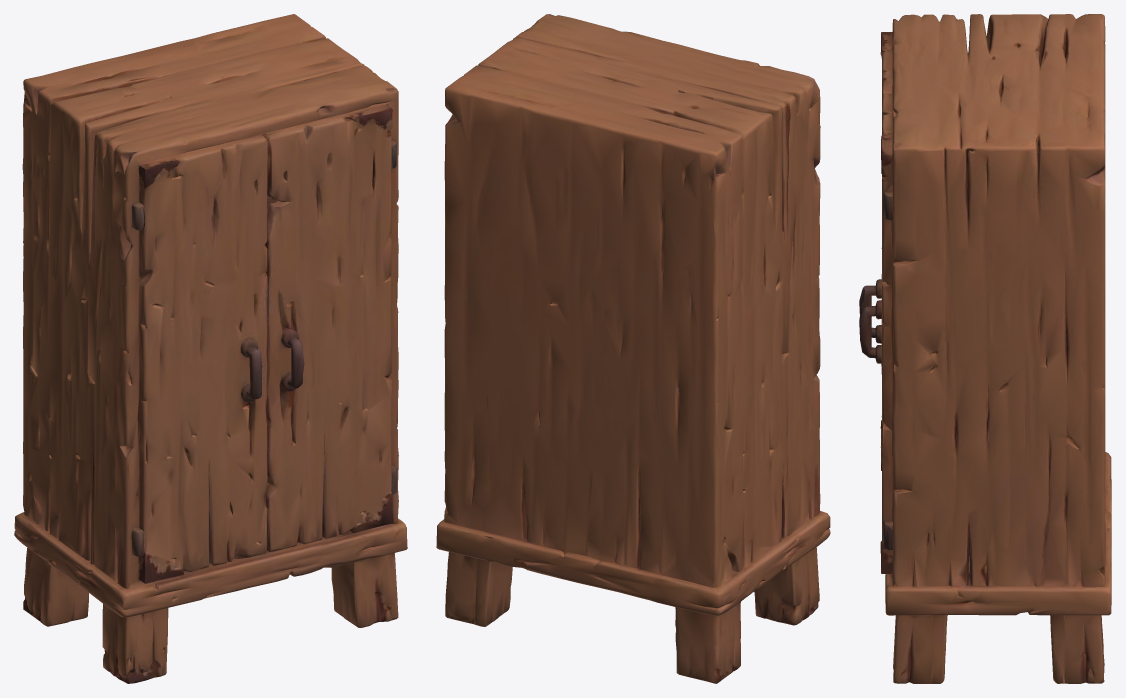
The model's file is wardrobe_derevyannyy_dvustvorchatyy.glb.
The picture shows the model from 3 angles, left to right: view 1: azimuth 30°, elevation 25°; view 2: azimuth 150°, elevation 25°; view 3: azimuth 270°, elevation 25°; orthographic projection.
Visible parts, largest first — view 1: body, door_l, door_r; view 2: body; view 3: body, door_r, door_l.
Boxes of the visible parts, bbox=[...] form: body: bbox=[14, 14, 407, 683]; door_l: bbox=[139, 135, 267, 583]; door_r: bbox=[263, 105, 392, 552]; body: bbox=[436, 14, 830, 683]; body: bbox=[881, 14, 1111, 683]; door_r: bbox=[859, 95, 892, 574]; door_l: bbox=[859, 32, 892, 470].
Size of the model in its own units: 1.13 by 2 by 0.8519.
3 materials, 3 textured.
